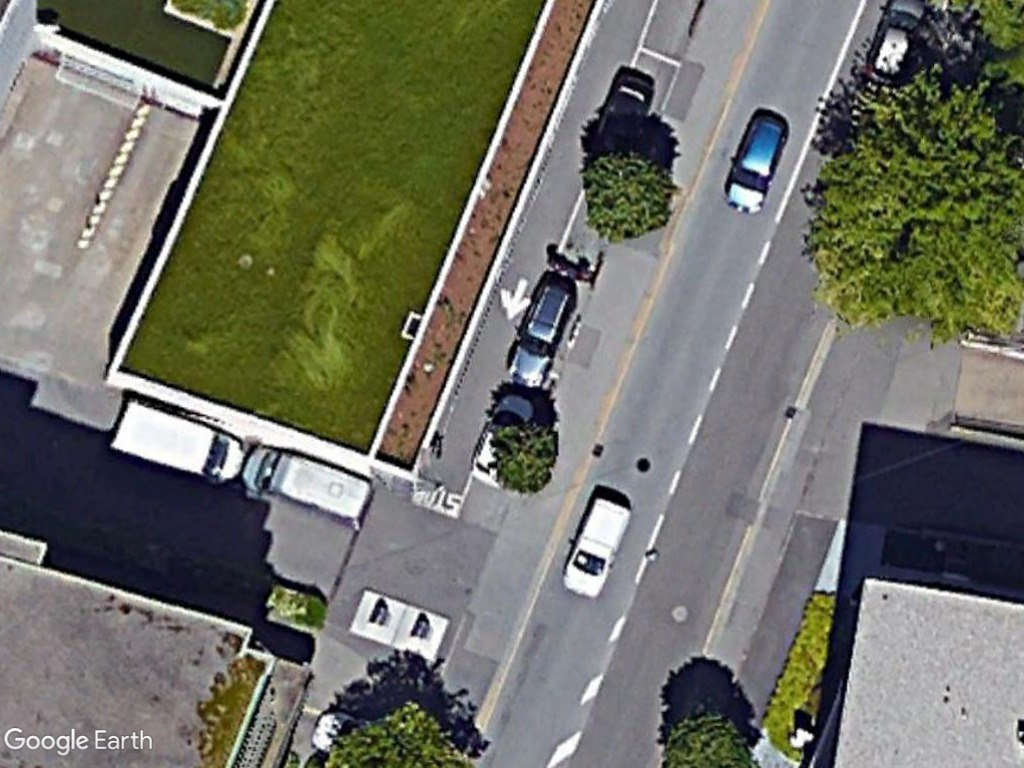car: (500, 266, 583, 393), (717, 107, 795, 218), (560, 493, 629, 602)
van: (100, 399, 245, 489), (244, 437, 376, 533)
